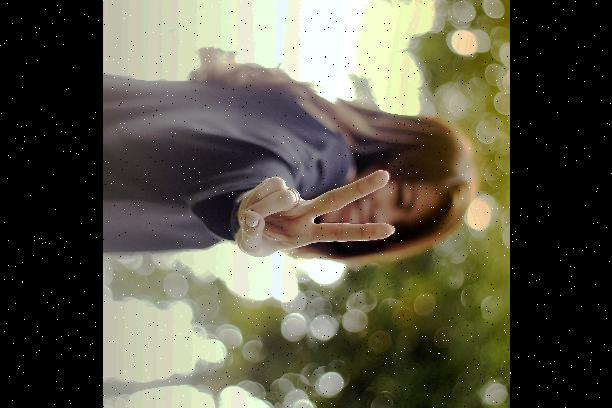Scissors: (232, 168, 396, 258)
